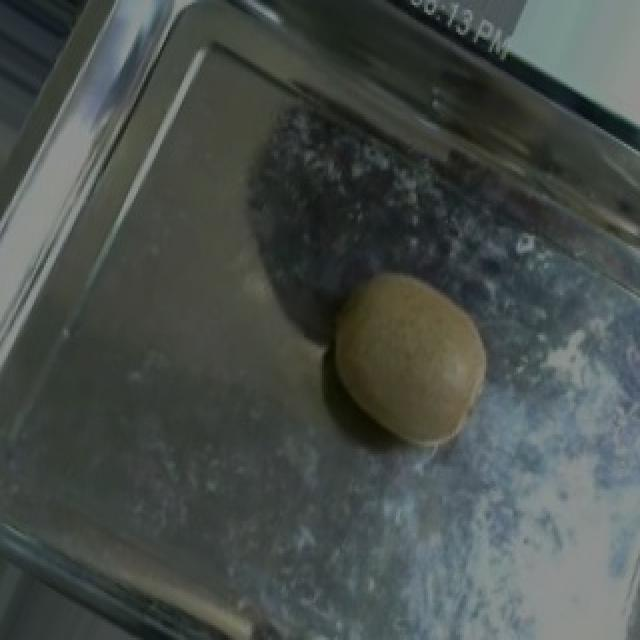Fruit: (296, 238, 516, 469)
